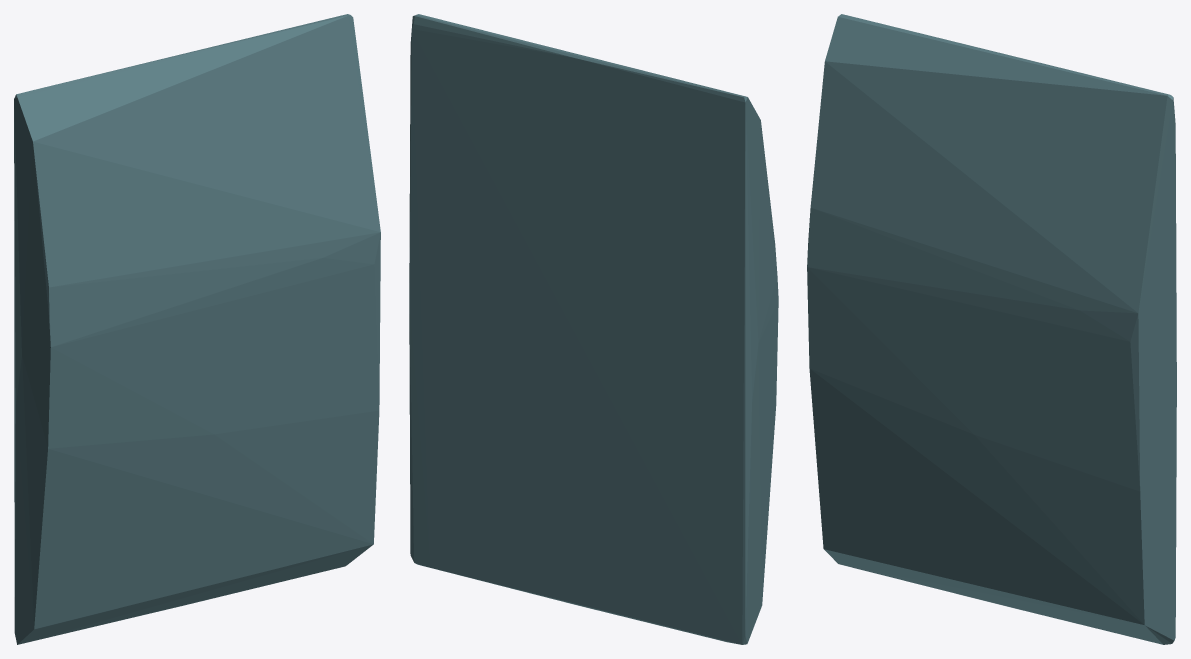
Rendered from book_open_a01.glb.
The picture shows the model from 3 angles, left to right: view 1: azimuth 30°, elevation 25°; view 2: azimuth 150°, elevation 25°; view 3: azimuth 330°, elevation 25°; orthographic projection.
Parts seen in each view (by area): view 1: geometry_0; view 2: geometry_0; view 3: geometry_0.
Part boxes in pixels (x1,y1,x2,y2): geometry_0: [14, 14, 380, 644]; geometry_0: [409, 14, 778, 644]; geometry_0: [807, 14, 1176, 644].
Size of the model in its own units: 0.3092 by 0.4797 by 0.0554.
